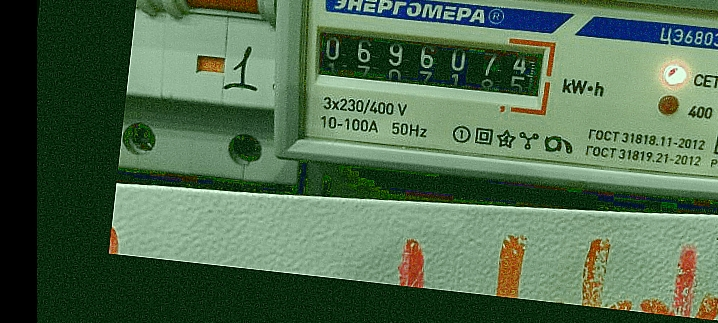0: (322, 34, 344, 61), (448, 45, 468, 73)
4: (511, 51, 529, 74)
5: (508, 73, 526, 95)
6: (417, 41, 437, 70), (354, 36, 375, 63)
7: (480, 49, 499, 77)
9: (386, 39, 404, 67)
screen: (300, 12, 560, 119)
